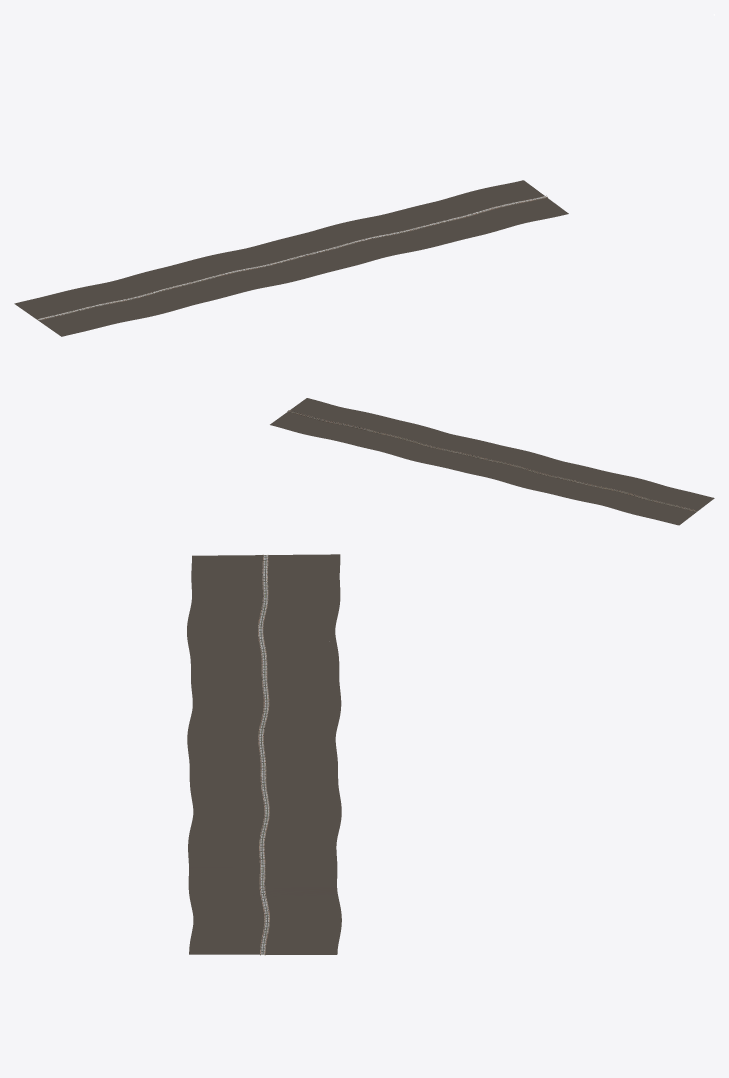
The model's file is mardigras.glb.
The picture shows the model from 3 angles, top to bottom: view 1: azimuth 30°, elevation 25°; view 2: azimuth 150°, elevation 25°; view 3: azimuth 270°, elevation 25°; orthographic projection. The views are drawn at different scales.
Parts seen in each view (by area): view 1: Land_002, Land_004, Land_007, Land_001, Land_003, Land_006, Land_008, Land_005, Land_000; view 2: Land_000, Land_004, Land_005, Land_007, Land_002, Land_006, Land_003, Land_001, Land_008; view 3: Land_008, Land_000, Land_003, Land_006, Land_001, Land_007, Land_002, Land_005, Land_004.
Boxes of the visible parts, x1,y1,x2,y2 form: Land_002: [125, 263, 230, 309]; Land_004: [243, 235, 341, 283]; Land_007: [408, 194, 512, 241]; Land_001: [72, 278, 176, 323]; Land_003: [182, 249, 283, 295]; Land_006: [355, 208, 454, 254]; Land_008: [461, 180, 565, 226]; Land_005: [297, 220, 394, 268]; Land_000: [14, 289, 115, 336]; Land_000: [632, 487, 714, 525]; Land_004: [453, 442, 536, 479]; Land_005: [404, 432, 489, 469]; Land_007: [319, 409, 398, 447]; Land_002: [544, 464, 622, 503]; Land_006: [363, 420, 445, 458]; Land_003: [497, 454, 577, 492]; Land_001: [592, 475, 670, 513]; Land_008: [271, 398, 349, 437]; Land_008: [189, 905, 341, 953]; Land_000: [191, 554, 340, 600]; Land_003: [188, 686, 341, 733]; Land_006: [188, 818, 340, 864]; Land_001: [187, 598, 340, 645]; Land_007: [188, 863, 339, 910]; Land_002: [188, 641, 339, 688]; Land_005: [189, 775, 341, 822]; Land_004: [187, 730, 337, 775].
Size of the model in its own units: 13023 by 948 by 3255.
